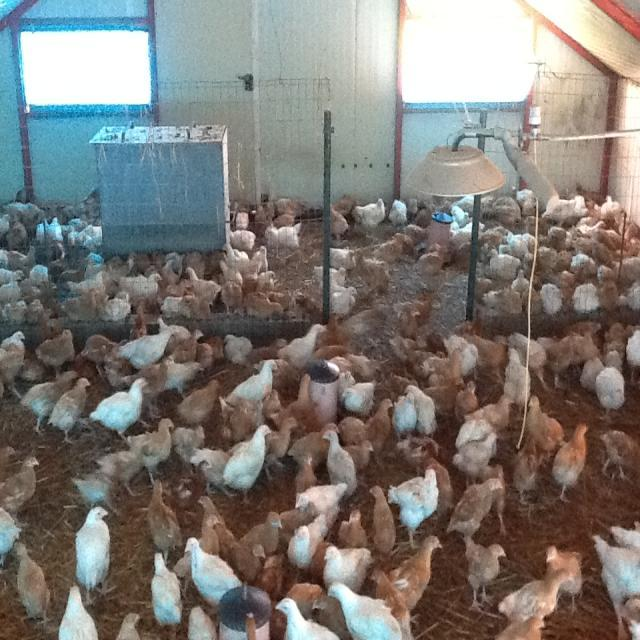poussin: (386, 532, 444, 624), (587, 519, 640, 607), (386, 466, 444, 546), (498, 567, 576, 624), (327, 580, 401, 640), (458, 532, 510, 616), (87, 374, 150, 442), (223, 420, 276, 498), (184, 534, 240, 606), (22, 369, 78, 438), (549, 420, 592, 508), (74, 504, 111, 604), (447, 477, 502, 543), (72, 454, 130, 516), (384, 319, 437, 385), (540, 546, 589, 616), (98, 440, 152, 502), (14, 542, 54, 625), (222, 356, 280, 413), (116, 323, 179, 375), (126, 417, 176, 482), (172, 511, 220, 578), (371, 569, 416, 639), (288, 420, 346, 473), (276, 593, 341, 640), (48, 376, 92, 444), (183, 442, 244, 490), (146, 479, 182, 559), (150, 547, 183, 634), (318, 542, 373, 594), (288, 510, 331, 573), (511, 331, 557, 388), (477, 458, 510, 536), (0, 454, 41, 516), (56, 581, 98, 640), (598, 425, 640, 483), (524, 394, 566, 452), (539, 330, 580, 389), (404, 378, 444, 438), (514, 424, 542, 509), (177, 378, 225, 427), (366, 478, 399, 548), (236, 509, 284, 557), (321, 429, 357, 493), (454, 434, 500, 484), (270, 500, 316, 549), (0, 331, 29, 405), (198, 492, 236, 548), (82, 332, 128, 378), (278, 324, 324, 370), (466, 332, 508, 382), (464, 391, 516, 431), (264, 417, 298, 478), (34, 328, 78, 375), (311, 591, 354, 639), (295, 478, 349, 516), (363, 393, 394, 459), (156, 356, 209, 394), (218, 394, 264, 436), (502, 348, 532, 411), (218, 542, 270, 578), (256, 192, 302, 232), (538, 190, 590, 224), (70, 258, 112, 300), (594, 367, 626, 422), (495, 608, 549, 640), (423, 375, 466, 415), (59, 284, 102, 324), (454, 416, 499, 454), (422, 347, 472, 380), (320, 308, 350, 362), (36, 210, 66, 264), (570, 221, 609, 261), (570, 319, 606, 362), (393, 290, 438, 324), (0, 502, 22, 571), (184, 262, 220, 304), (353, 197, 388, 240), (392, 388, 422, 437), (600, 213, 636, 251), (264, 220, 302, 256), (356, 247, 388, 289), (619, 250, 640, 314), (327, 280, 362, 318), (244, 286, 282, 321), (0, 238, 39, 272), (285, 376, 315, 420), (488, 245, 526, 279), (66, 221, 100, 259), (338, 378, 378, 410), (445, 334, 478, 372), (500, 223, 540, 254), (155, 286, 196, 316), (185, 604, 219, 640), (413, 245, 448, 279), (10, 198, 48, 229), (578, 349, 606, 391), (338, 510, 368, 549), (93, 293, 132, 323), (176, 328, 208, 364), (374, 233, 410, 265), (308, 264, 351, 290), (534, 246, 570, 277), (340, 440, 377, 470), (486, 288, 523, 318), (214, 336, 253, 364), (119, 272, 164, 296), (156, 316, 189, 348), (128, 249, 164, 278), (484, 194, 521, 222), (604, 322, 626, 369), (173, 425, 204, 458), (537, 282, 567, 316), (158, 248, 184, 287), (217, 280, 244, 316), (6, 219, 34, 253), (623, 328, 640, 383), (222, 237, 252, 268), (572, 284, 600, 316), (108, 256, 136, 288), (1, 268, 27, 302), (348, 352, 386, 375), (327, 202, 350, 240), (326, 246, 356, 274), (446, 218, 476, 246), (1, 295, 28, 326), (182, 246, 208, 278), (458, 377, 478, 418), (114, 608, 139, 640), (452, 192, 478, 222), (230, 222, 256, 252), (28, 256, 52, 288), (250, 239, 270, 277), (597, 278, 619, 312), (540, 224, 571, 248), (570, 250, 598, 276), (217, 256, 245, 282), (516, 187, 540, 216), (558, 272, 576, 310), (522, 284, 542, 318), (256, 264, 280, 292), (28, 294, 50, 324), (415, 200, 438, 228), (388, 196, 408, 226), (601, 193, 623, 220), (594, 260, 618, 284), (511, 268, 532, 292), (334, 194, 354, 218)
